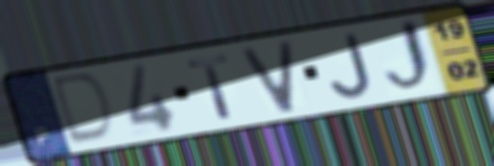4: (123, 61, 178, 134)
D: (50, 69, 117, 148)
J: (382, 15, 440, 98), (326, 30, 376, 102)
T: (184, 51, 238, 122)
V: (237, 37, 298, 116)
